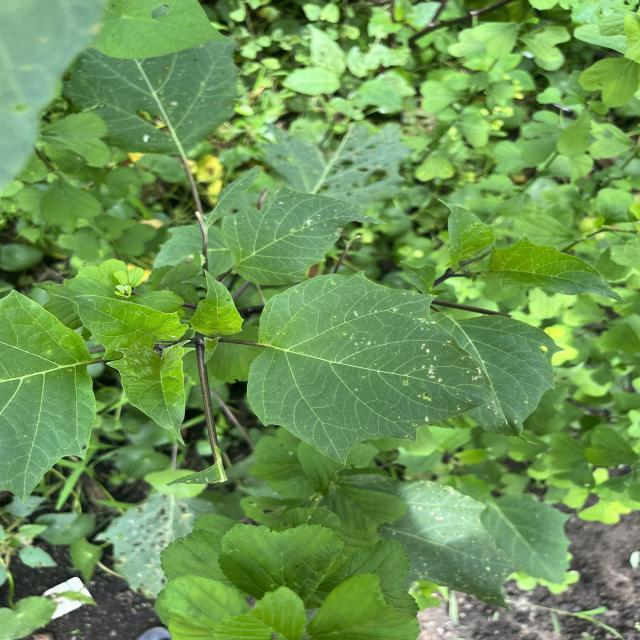Datura metal linn: (243, 266, 513, 468), (475, 231, 632, 309), (104, 338, 198, 448), (49, 290, 191, 362), (186, 267, 248, 337)
